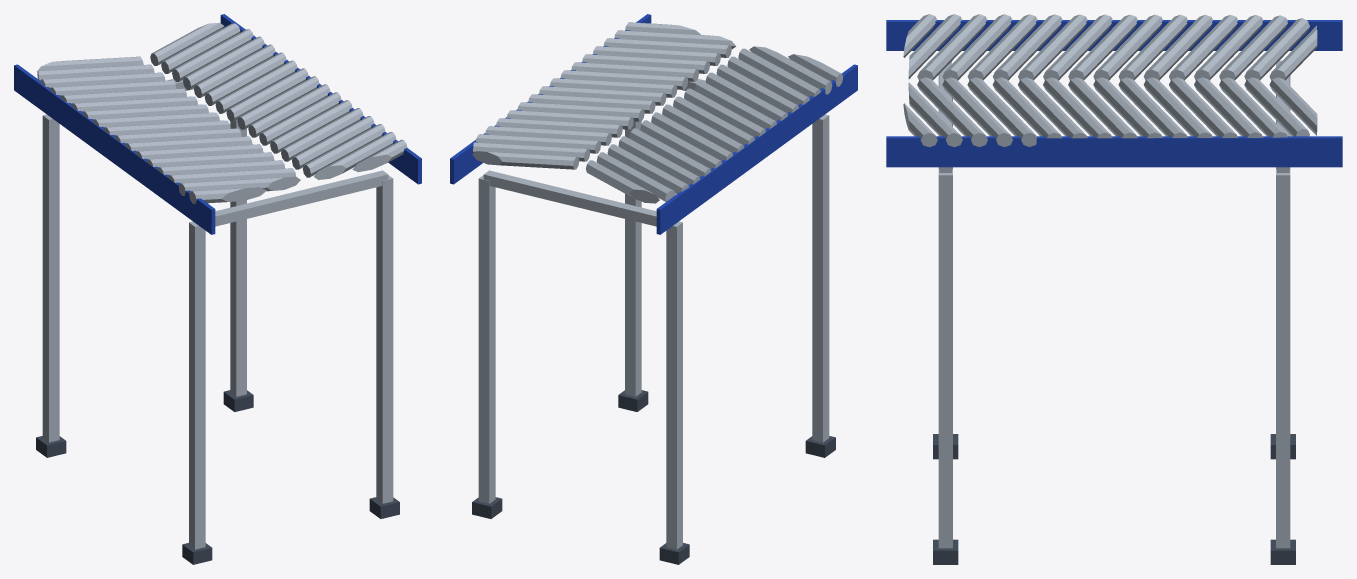
The model's file is SM_MPR_CADFeedChevron_2CC7B0.fbx.
3 views of the same model, side by side, from view 1: azimuth 30°, elevation 25°; view 2: azimuth 150°, elevation 25°; view 3: azimuth 270°, elevation 25° (orthographic). The views are drawn at different scales.
Visible parts, largest first — view 1: SM_MPR_CADFeedChevron_2CC7B0; view 2: SM_MPR_CADFeedChevron_2CC7B0; view 3: SM_MPR_CADFeedChevron_2CC7B0.
Part boxes in pixels (box(x1,y1,x2,y2)): SM_MPR_CADFeedChevron_2CC7B0: box(14, 14, 421, 564); SM_MPR_CADFeedChevron_2CC7B0: box(450, 14, 857, 564); SM_MPR_CADFeedChevron_2CC7B0: box(886, 14, 1342, 564).
Bounding box in the file's own units: 88.32 × 143 × 150.
